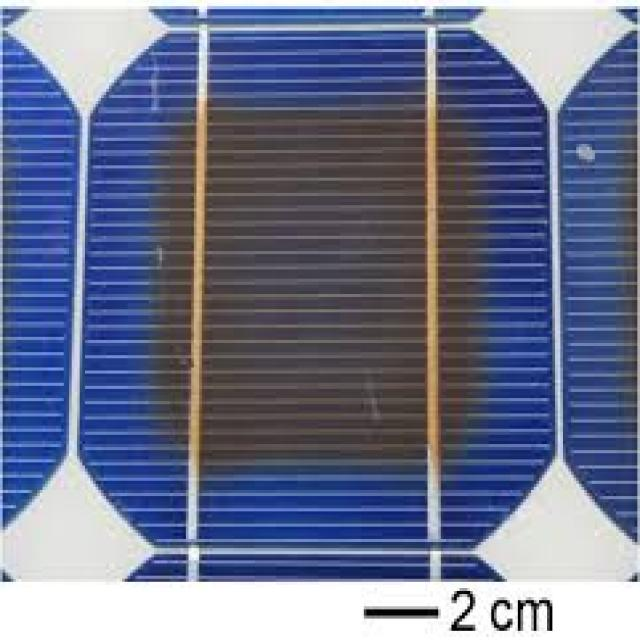faulty: (31, 0, 640, 595)
